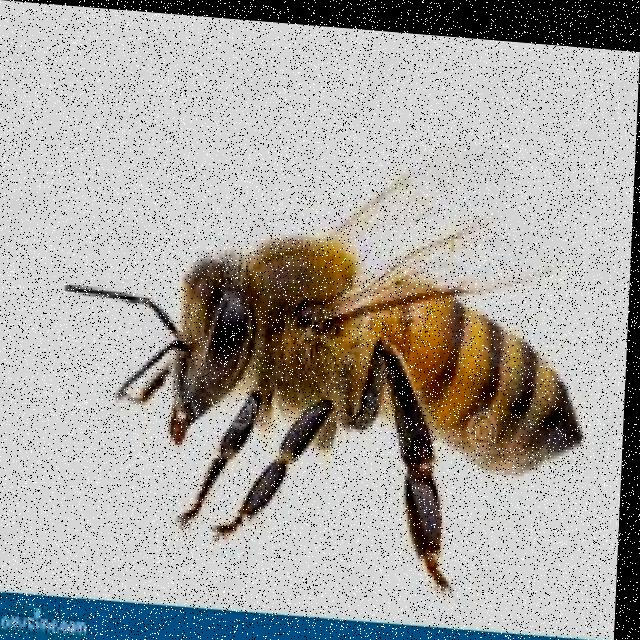Apis-mellifera-scutellata: (54, 135, 597, 601)
